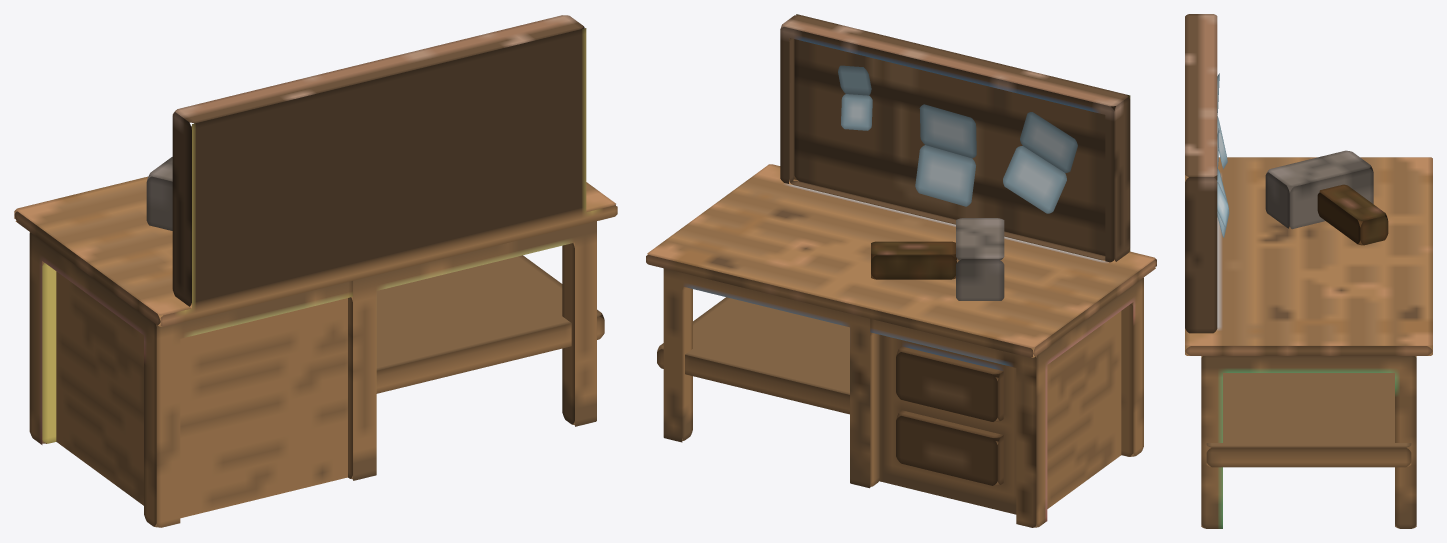
The model's file is bench.fbx.
The picture shows the model from 3 angles, left to right: view 1: azimuth 30°, elevation 25°; view 2: azimuth 150°, elevation 25°; view 3: azimuth 270°, elevation 25°; orthographic projection. The views are drawn at different scales.
Visible parts, largest first — view 1: cuboid_5, cuboid, cuboid_3, cuboid_4, cuboid_7; view 2: cuboid_5, cuboid_3, cuboid, cuboid_4, cuboid_1, cuboid_2, plane_2, plane, cuboid_7, cuboid_6, plane_1; view 3: cuboid_5, cuboid_4, cuboid_3, cuboid_7, cuboid_6, plane, plane_1, plane_2.
Part boxes in pixels (box(x1,y1,x2,y2)): cuboid_5: box(14, 15, 617, 326); cuboid: box(56, 271, 352, 518); cuboid_3: box(29, 221, 596, 527); cuboid_4: box(376, 255, 604, 393); cuboid_7: box(146, 157, 172, 230); cuboid_5: box(646, 14, 1156, 357); cuboid_3: box(663, 268, 1143, 527); cuboid: box(879, 311, 1121, 514); cuboid_4: box(657, 297, 849, 414); cuboid_1: box(896, 410, 1003, 485); cuboid_2: box(896, 346, 1003, 422); plane_2: box(915, 104, 976, 206); plane: box(1003, 112, 1077, 213); cuboid_7: box(956, 218, 1004, 300); cuboid_6: box(871, 241, 956, 279); plane_1: box(838, 65, 872, 130); cuboid_5: box(1185, 14, 1432, 355); cuboid_4: box(1206, 373, 1411, 467); cuboid_3: box(1201, 356, 1416, 528); cuboid_7: box(1265, 150, 1373, 229); cuboid_6: box(1317, 184, 1388, 245); plane: box(1217, 73, 1227, 168); plane_1: box(1217, 182, 1228, 227); plane_2: box(1217, 128, 1229, 237).
Bounding box in the file's own units: 130 × 110 × 71.88.
1 material, 1 textured.
